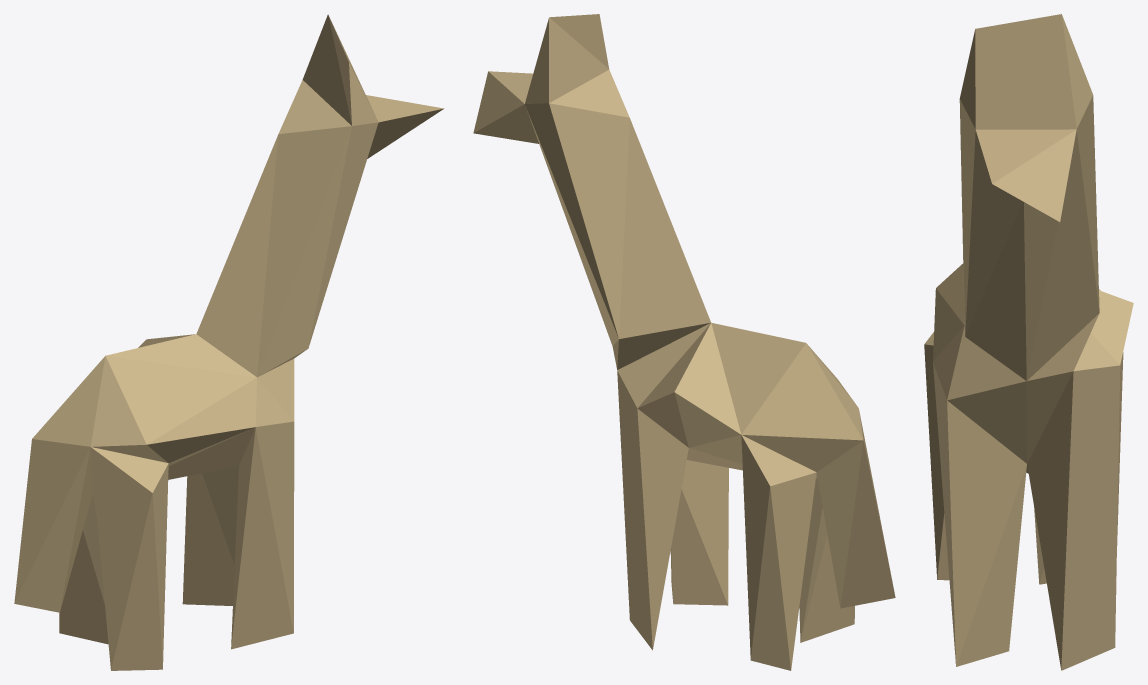
3 views of the same model, side by side, from view 1: azimuth 30°, elevation 25°; view 2: azimuth 150°, elevation 25°; view 3: azimuth 270°, elevation 25° (orthographic). The views are drawn at different scales.
Visible parts, largest first — view 1: part0; view 2: part0; view 3: part0.
Part boxes in pixels (x1,y1,x2,y2): part0: (14,14,444,670); part0: (473,14,895,670); part0: (924,14,1133,670).
Size of the model in its own units: 4.5 by 5.96 by 1.6.
